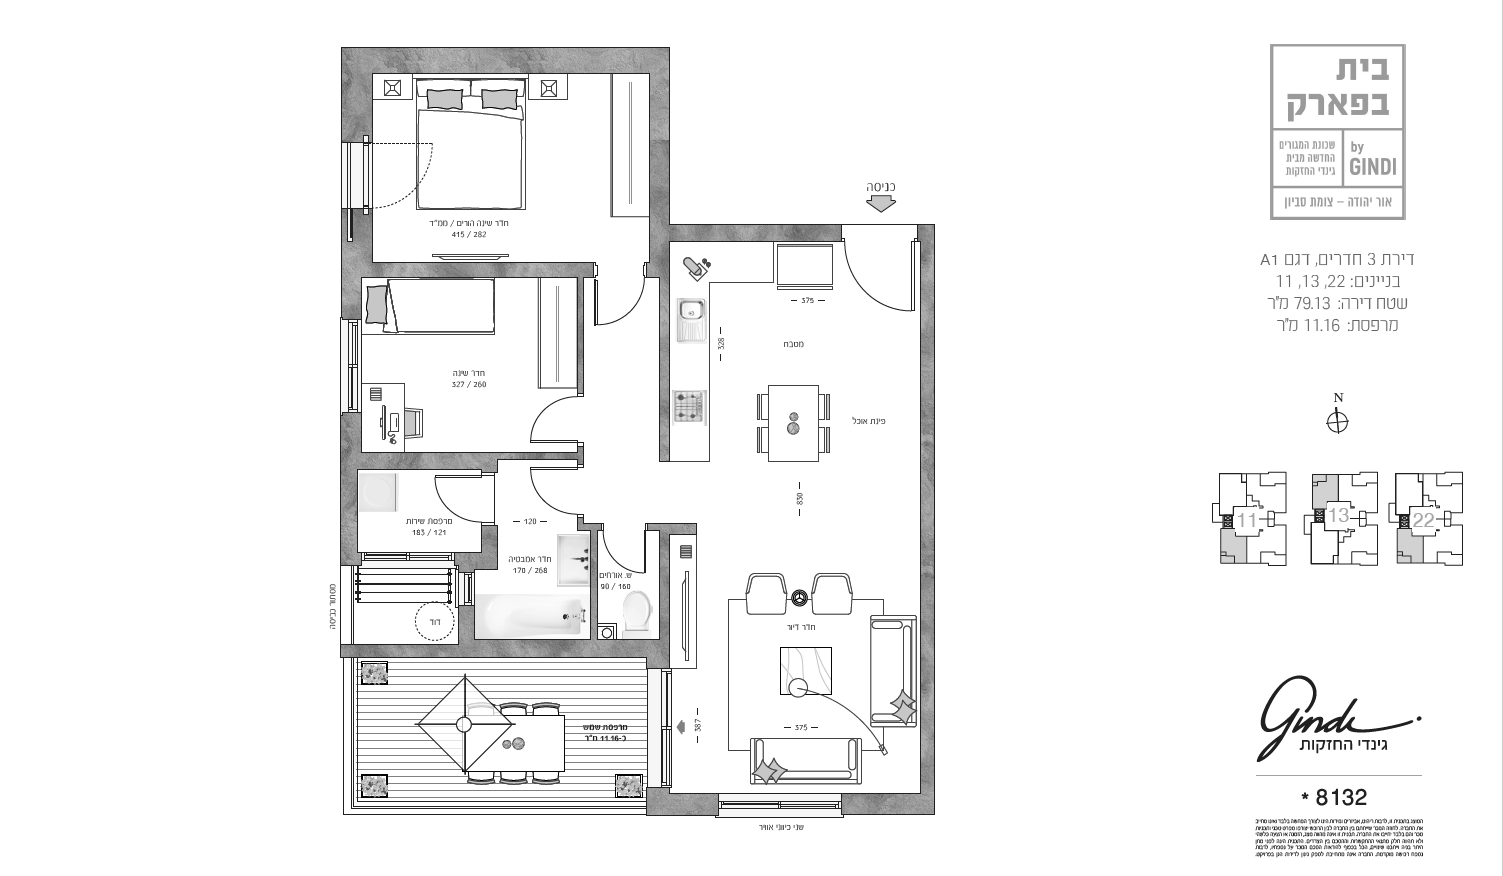door: (841, 243, 919, 315), (374, 137, 441, 211), (430, 470, 481, 530), (526, 464, 576, 520), (527, 394, 578, 448), (590, 279, 643, 331), (601, 530, 650, 578)
room: (659, 223, 937, 816), (340, 48, 672, 277), (341, 263, 586, 462)
wall: (340, 47, 671, 75), (920, 223, 936, 816), (648, 47, 670, 278), (474, 639, 670, 658), (670, 223, 843, 243), (340, 414, 358, 567)
window: (716, 793, 843, 819), (647, 666, 671, 789), (340, 320, 362, 415), (361, 551, 455, 569)
